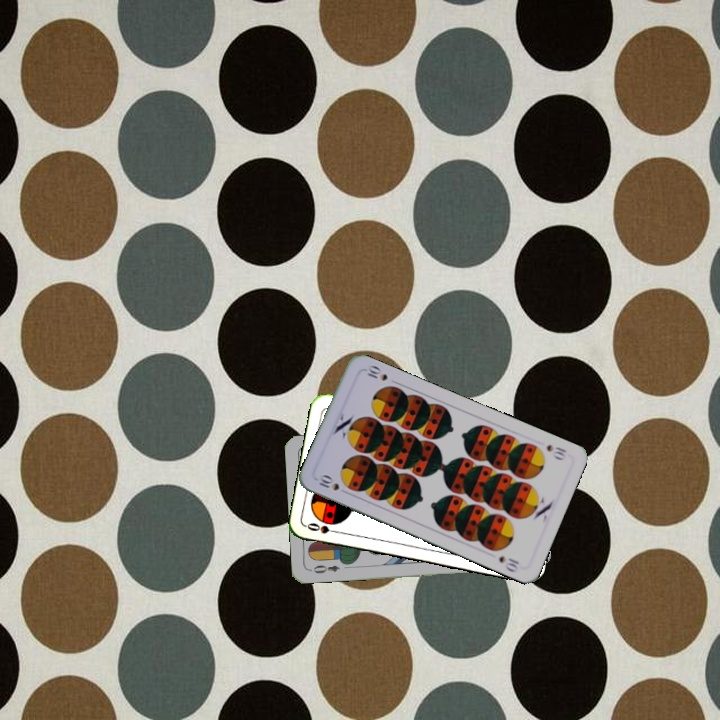EO: (309, 561, 342, 576)
S10: (315, 471, 351, 497), (542, 440, 569, 463)
SO: (303, 519, 343, 536)
